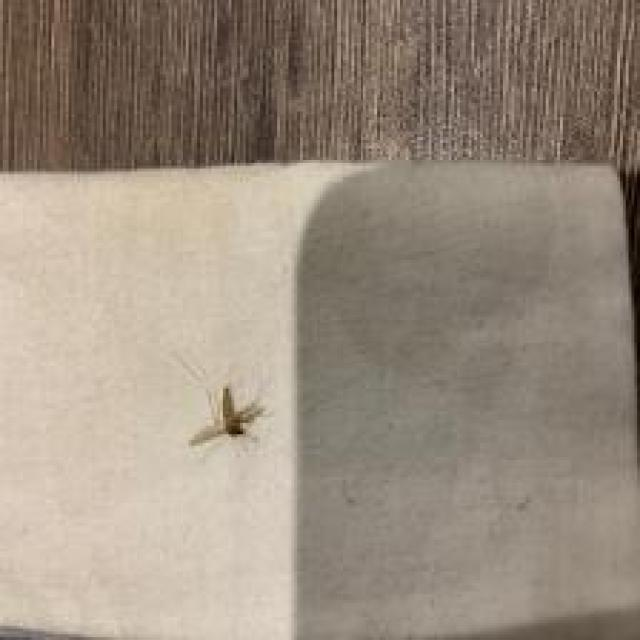Culex: (187, 383, 267, 448)
